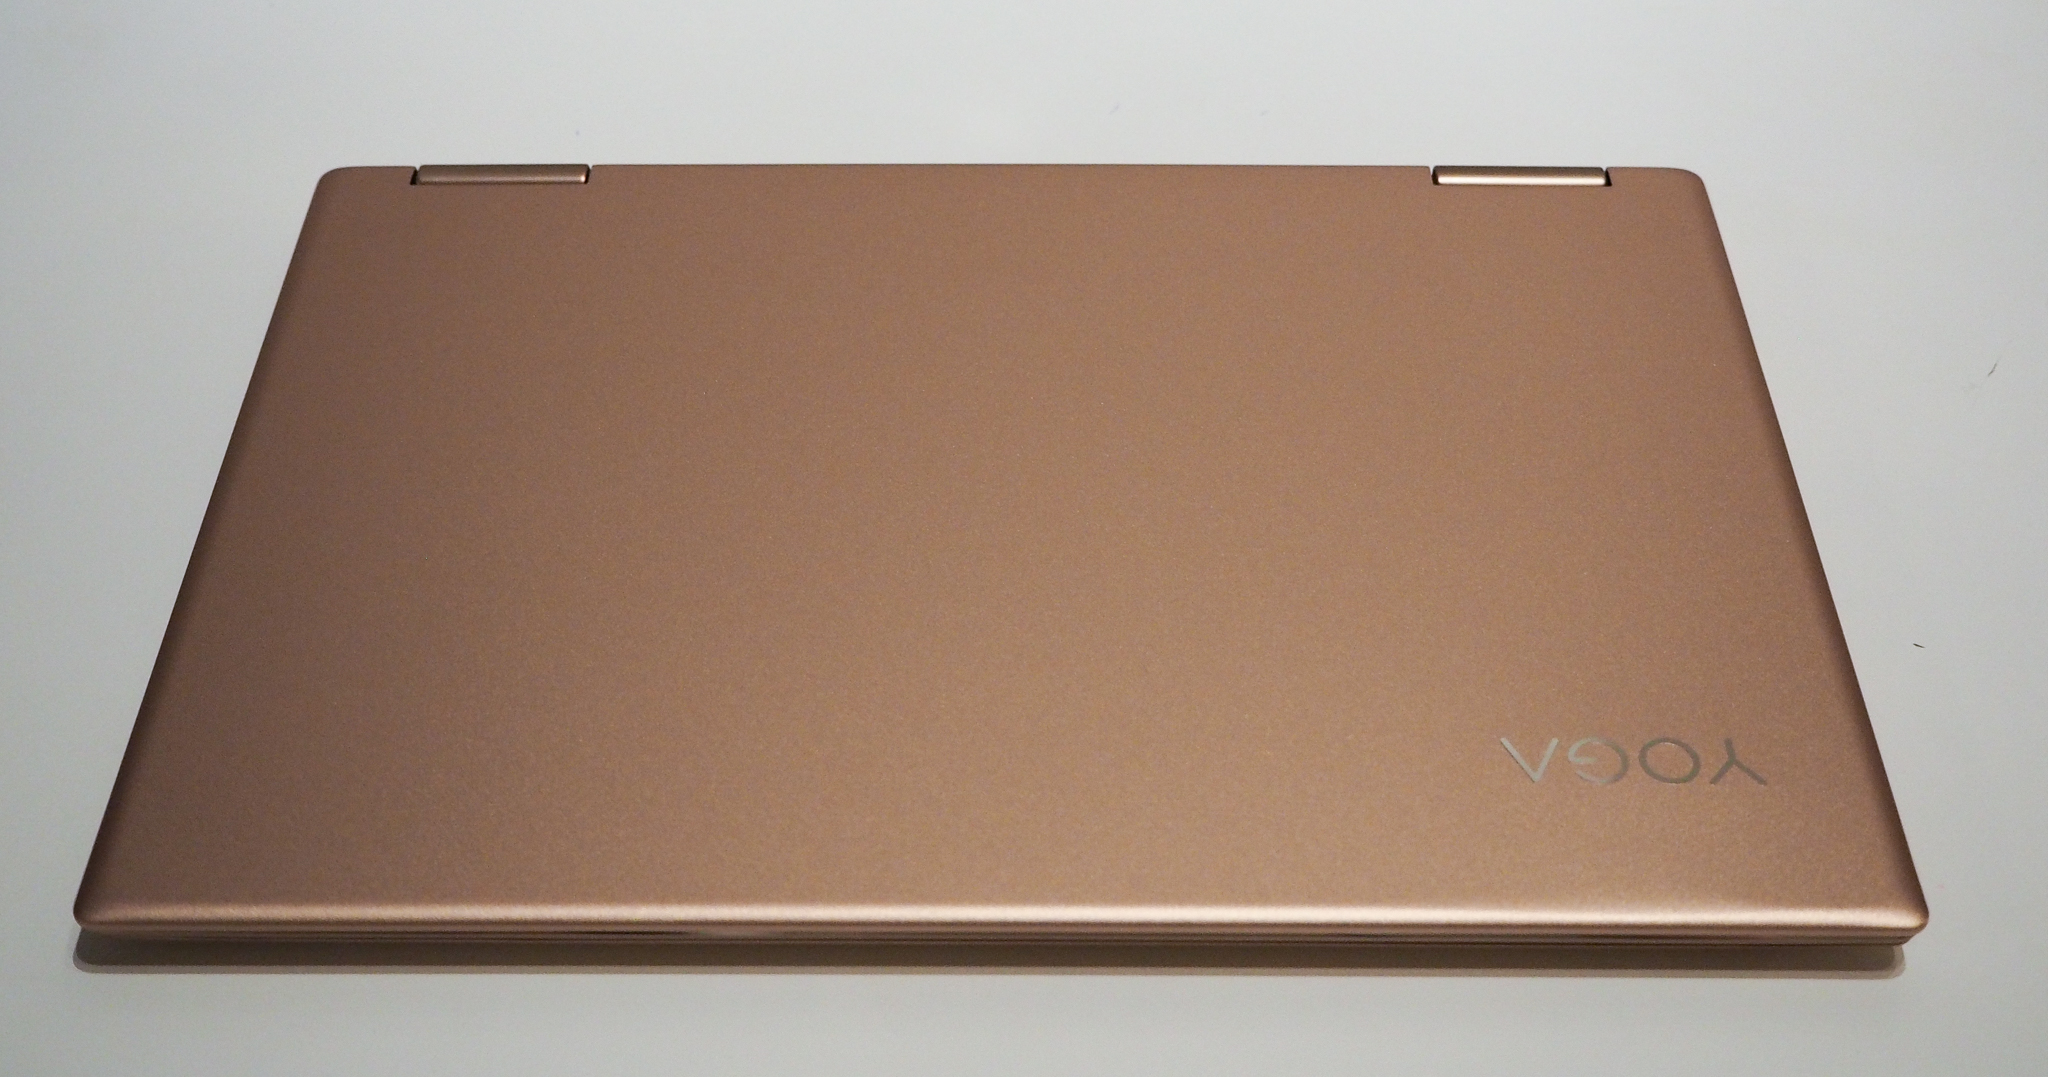laptops: (58, 92, 1965, 988)
